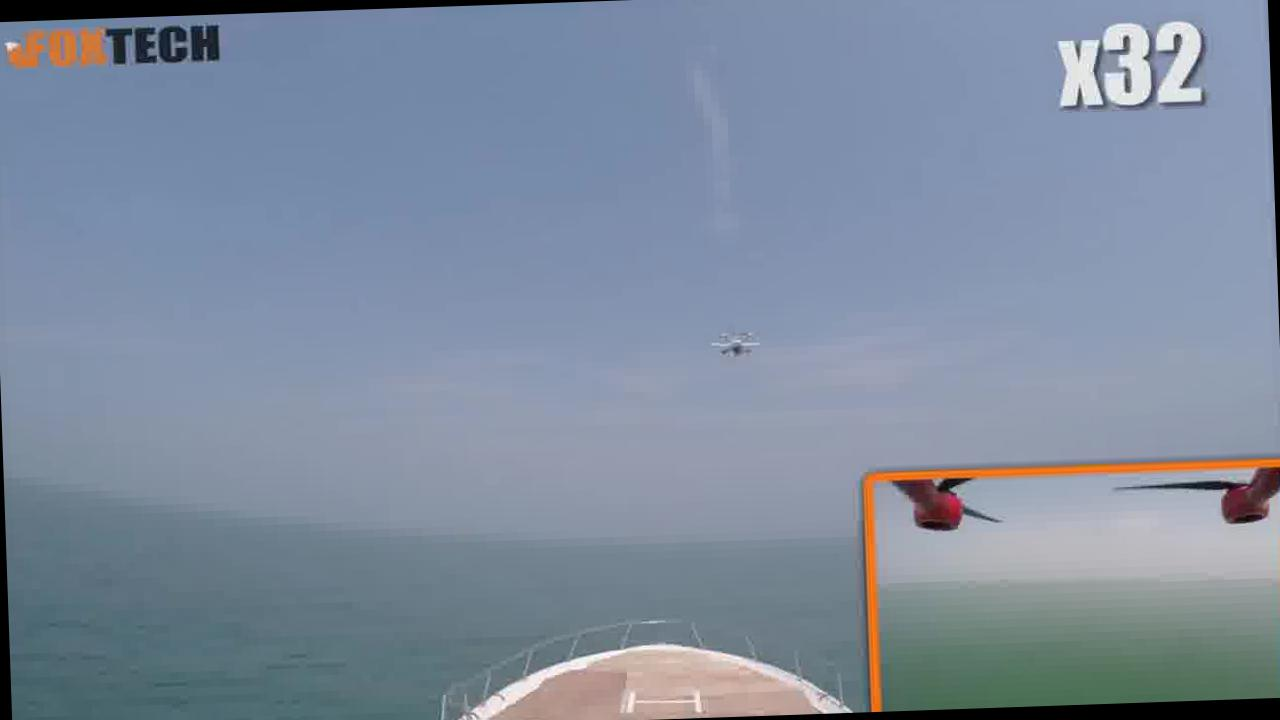drone: (698, 316, 776, 371)
